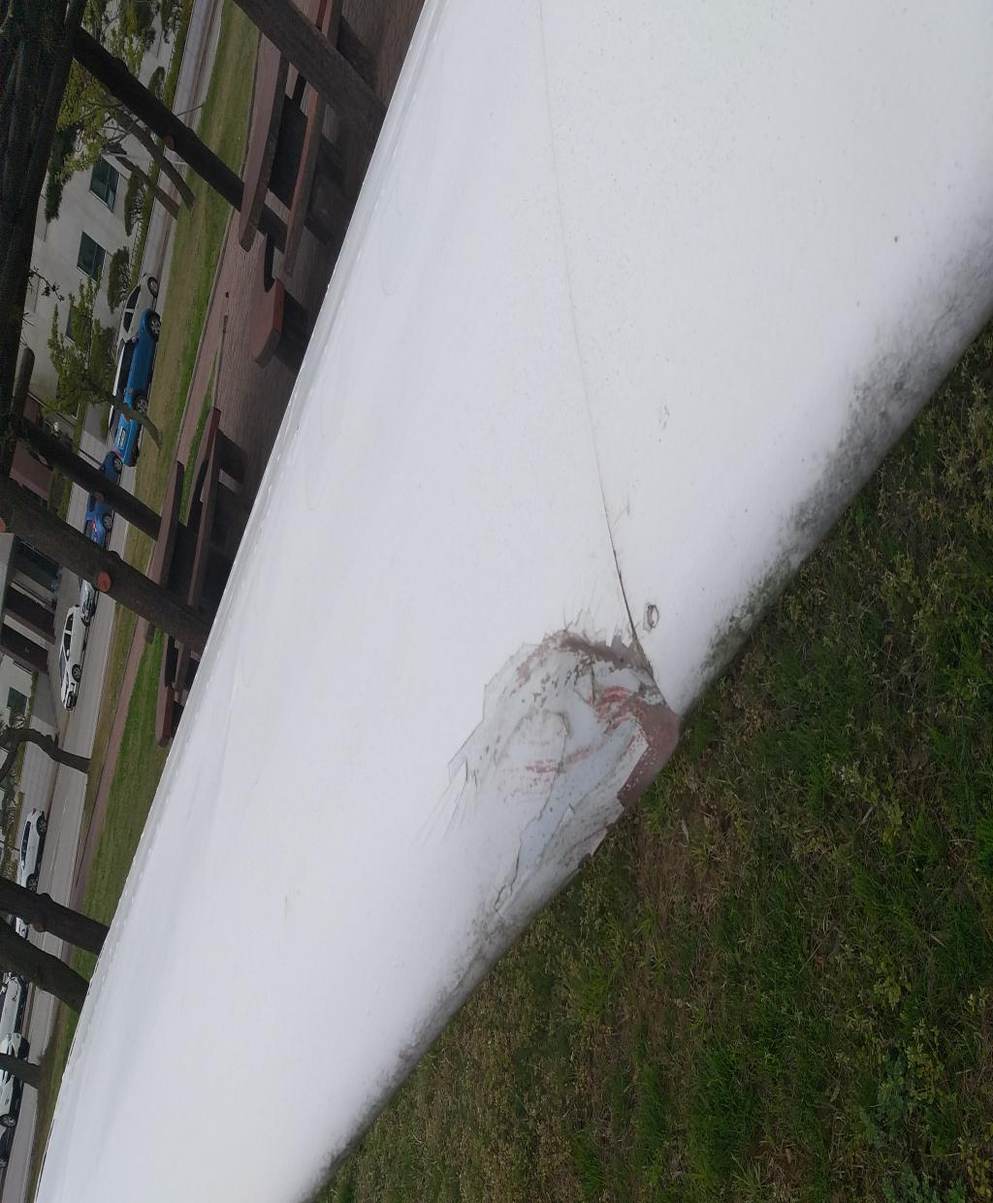corrosion: (121, 1017, 286, 1203)
